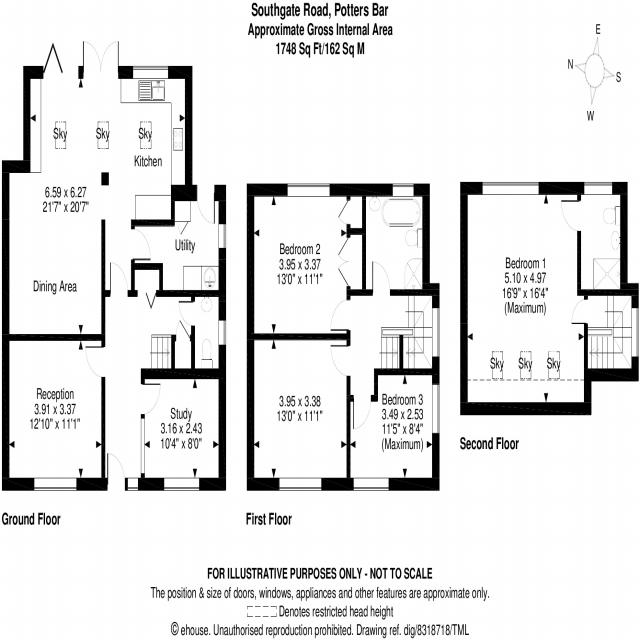DOOR: (196, 184, 216, 225), (106, 451, 126, 491), (352, 394, 372, 430), (140, 382, 161, 416), (330, 344, 351, 377), (130, 228, 151, 261), (372, 260, 391, 296), (109, 261, 128, 297), (330, 299, 351, 331), (561, 199, 581, 232), (85, 345, 105, 378), (178, 300, 195, 327), (571, 298, 588, 324)
DOUBLE DOOR: (82, 36, 120, 79)
ROOM: (2, 28, 193, 341), (460, 182, 592, 415), (247, 183, 366, 340), (246, 333, 351, 491), (2, 334, 105, 491), (346, 368, 440, 491)
WINDOW: (482, 182, 539, 195), (279, 477, 322, 491), (287, 183, 330, 197), (34, 477, 77, 491), (163, 477, 200, 491), (353, 477, 389, 491), (133, 66, 168, 79), (584, 181, 613, 196), (432, 307, 440, 359), (631, 307, 639, 358), (432, 383, 440, 434), (392, 183, 414, 197), (140, 417, 145, 475), (218, 223, 227, 250), (218, 320, 226, 346), (127, 477, 139, 491)
